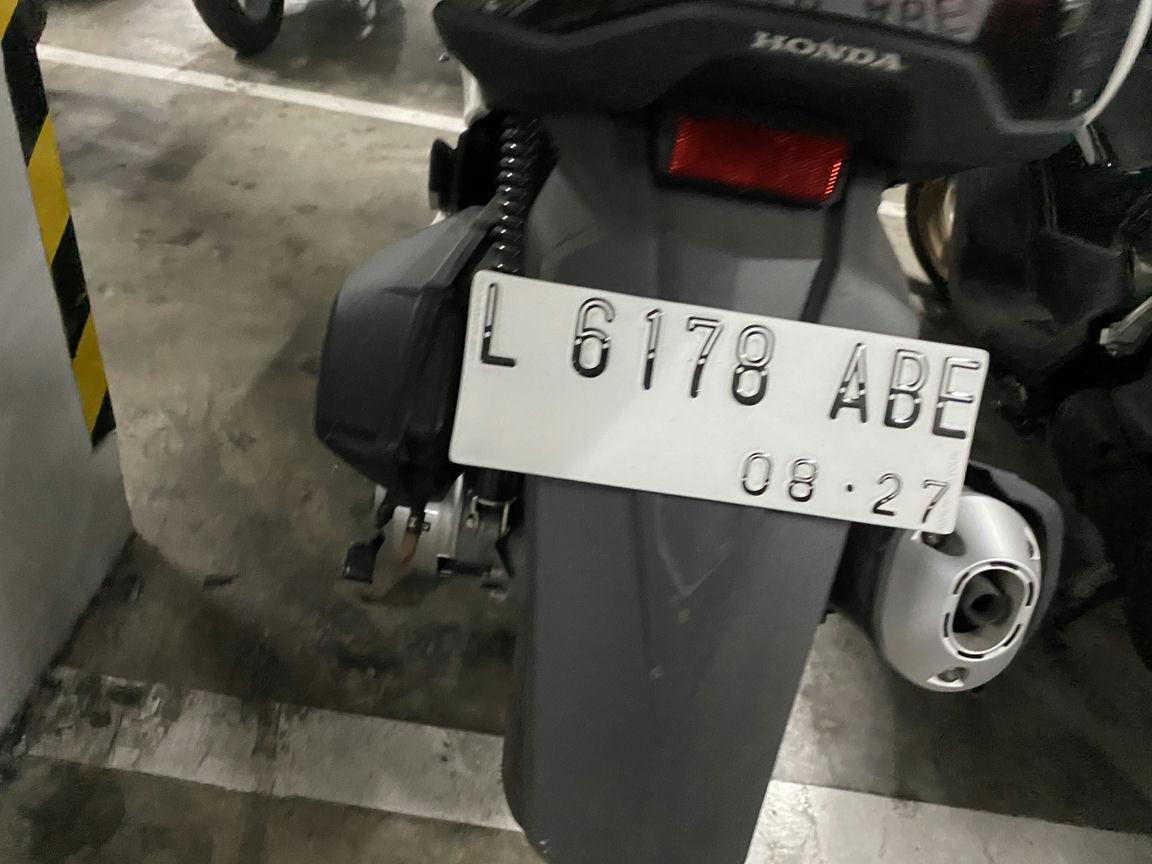plat: (448, 270, 988, 536)
